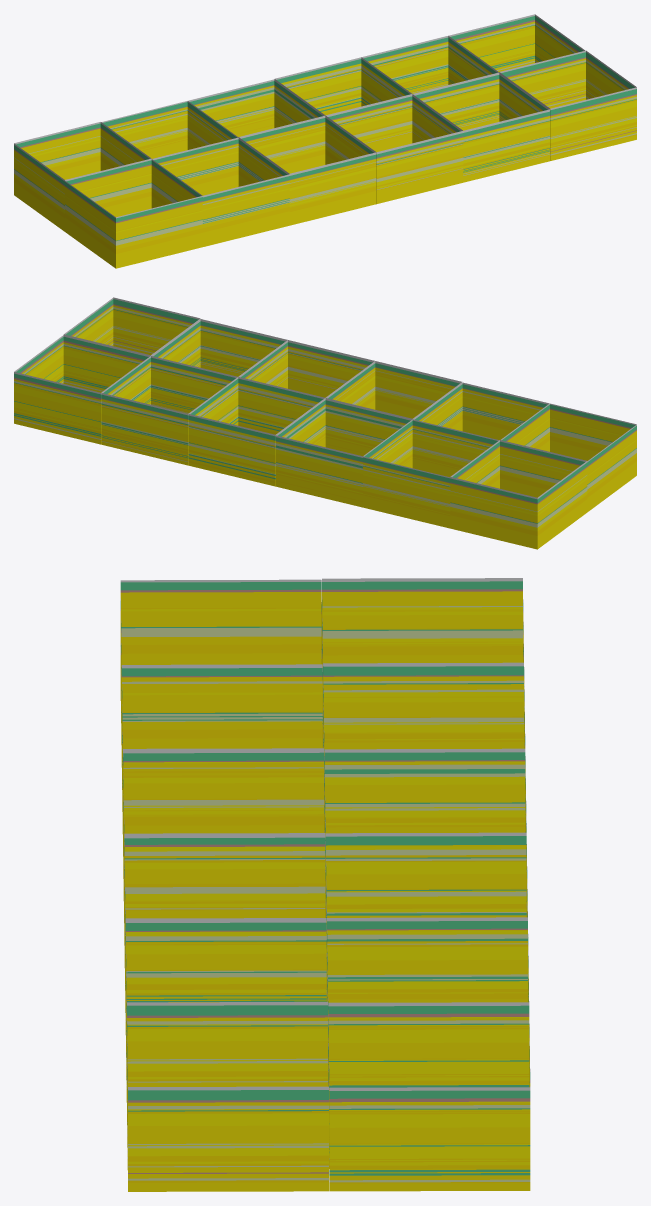
3 renders of one model, top to bottom at view 1: azimuth 30°, elevation 25°; view 2: azimuth 150°, elevation 25°; view 3: azimuth 270°, elevation 25°, orthographic. The views are drawn at different scales.
Visible parts, largest first — view 1: mesh; view 2: mesh; view 3: mesh.
Part boxes in pixels (box(x1,y1,x2,y2)): mesh: box(14, 14, 636, 268); mesh: box(14, 297, 636, 549); mesh: box(120, 578, 530, 1191).
Size of what is drawn, in the model's own units: 981 by 94 by 333.
